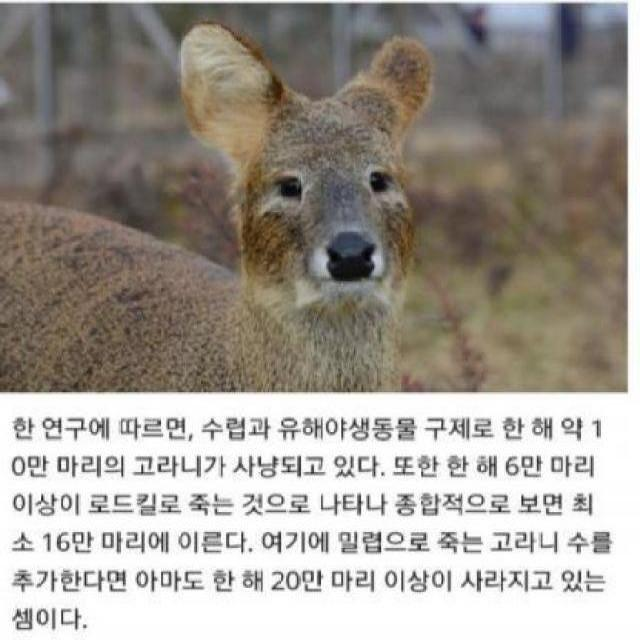deer: (0, 25, 445, 388)
